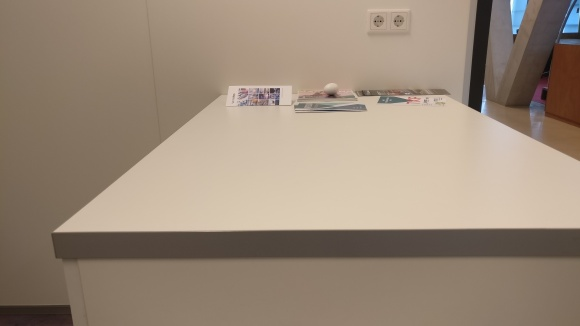egg: (323, 82, 339, 95)
